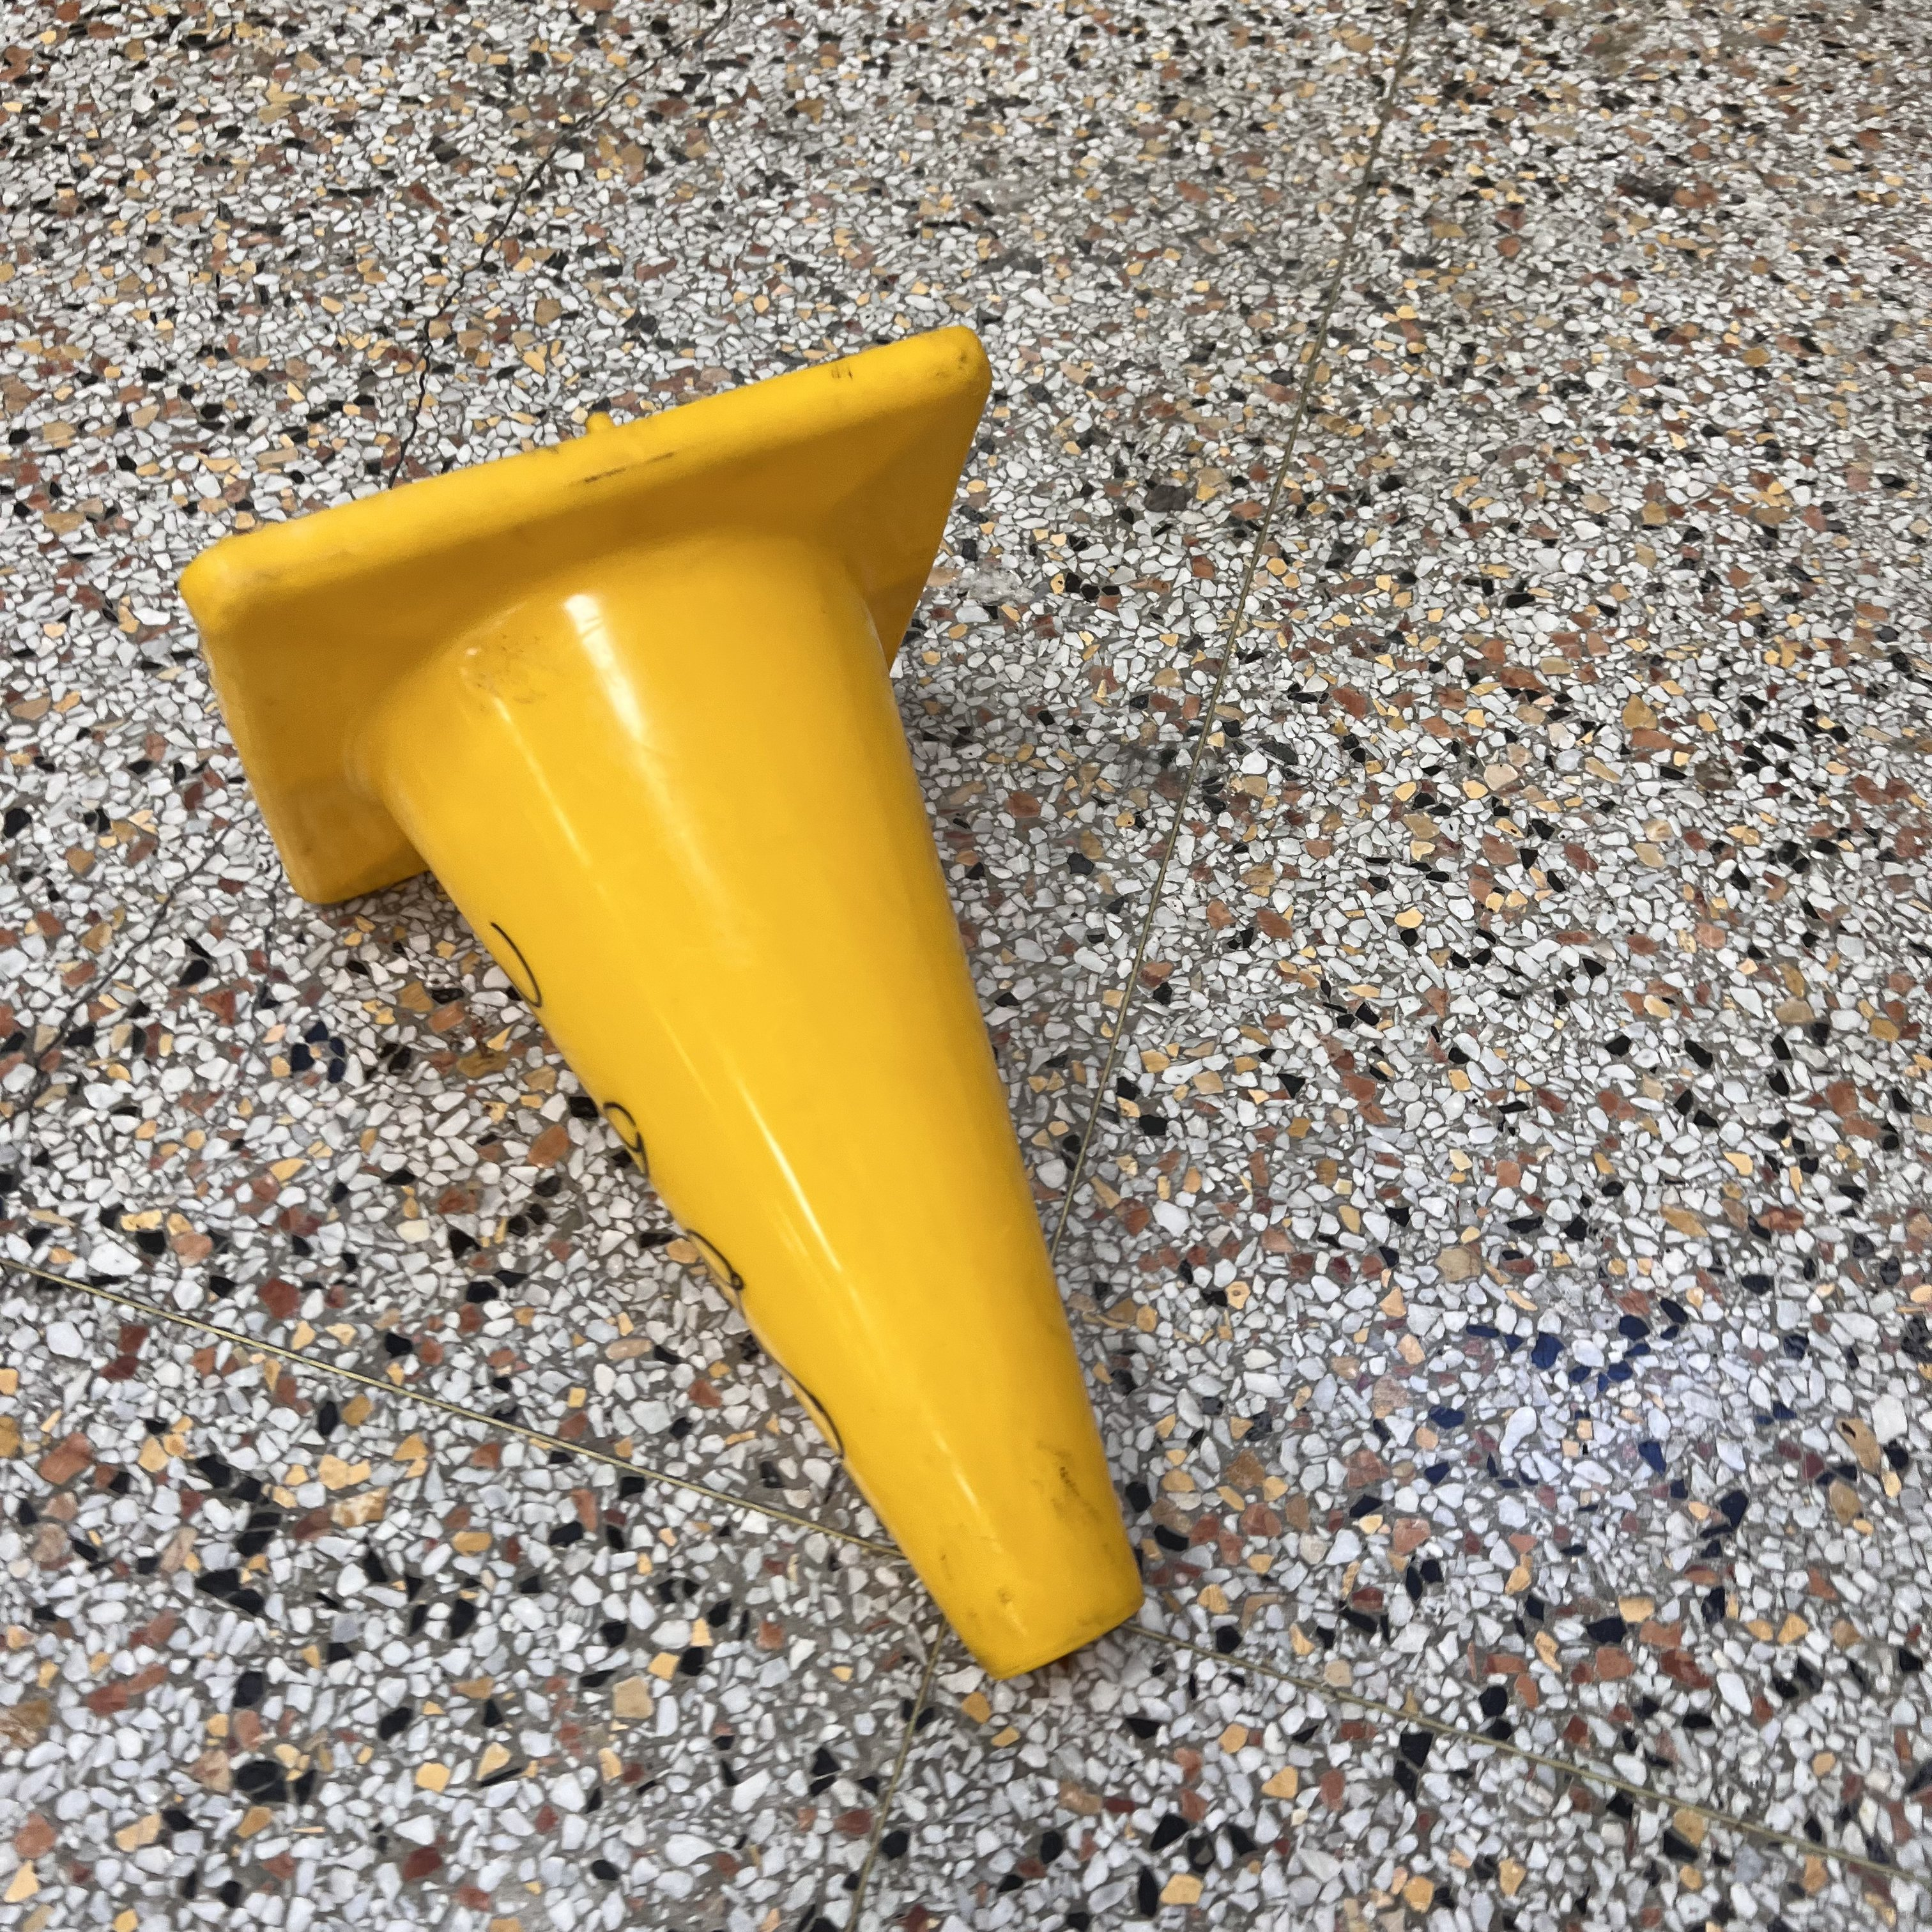cone: (177, 324, 1143, 1681)
